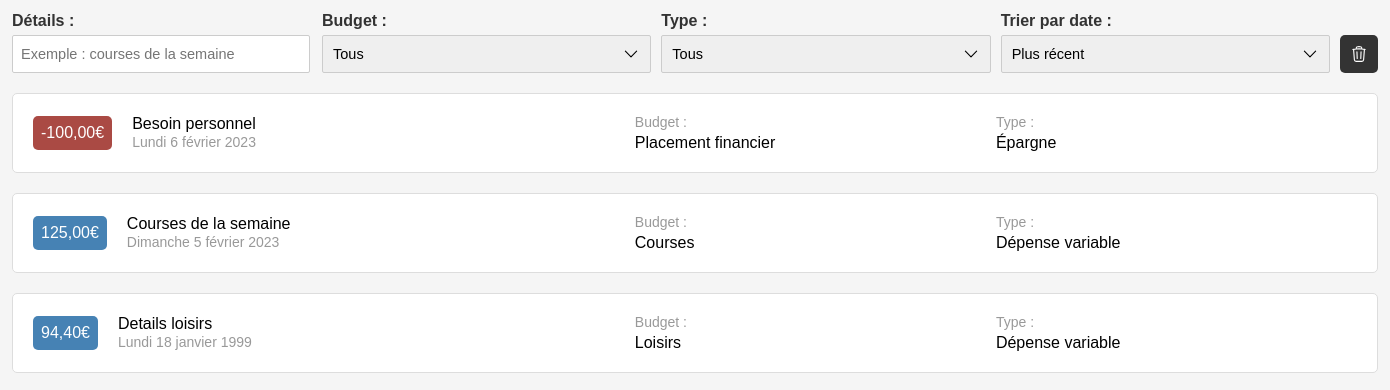
<History /> › filter by expense name, budget type and by budget name
Expected: the text "Besoin personnel" is shown, [132,115,256,133]
Expected: the text "Courses de la semaine" is shown, [127,215,290,233]
In the field labelled "Détails :": (161, 54) [12,35,310,73], type "Deta"
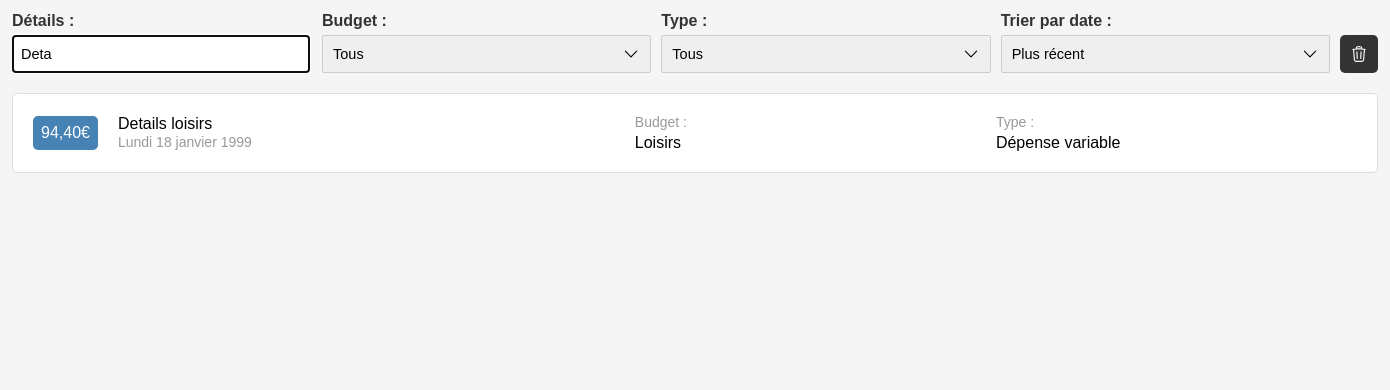
Expected: the text "Details loisirs" is shown, [118,115,212,132]
Expected: the text "Besoin personnel" is gone
Expected: the text "Courses de la semaine" is gone
Clear the field labelled "Détails :": (161, 54) [12,35,310,73]
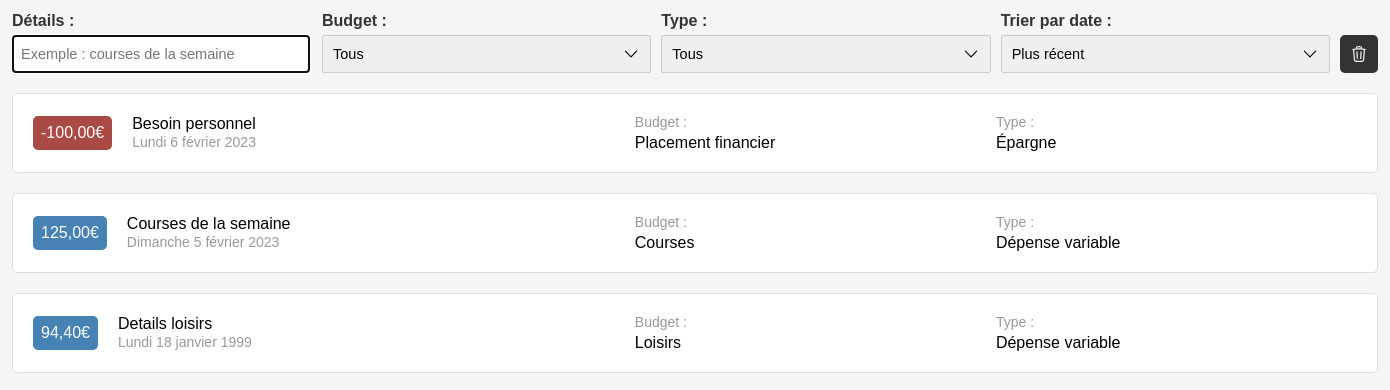
Expected: the text "Details loisirs" is shown, [118,315,212,332]
Expected: the text "Besoin personnel" is shown, [132,115,256,133]
Expected: the text "Courses de la semaine" is shown, [127,215,290,233]
Select "Dépense variable" in the dropdown labelled "Type :": (826, 54) [661,35,991,73]
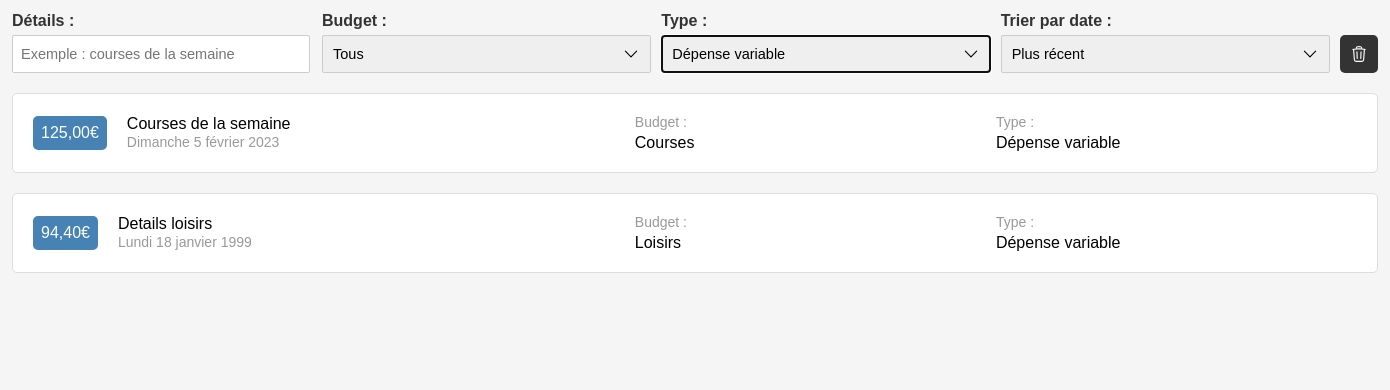
Expected: the text "Details loisirs" is shown, [118,215,212,232]
Expected: the text "Placement financier" is gone
Expected: the text "Courses" is shown 2 times
Select "Courses" in the dropdown labelled "Budget :": (487, 54) [322,35,651,73]
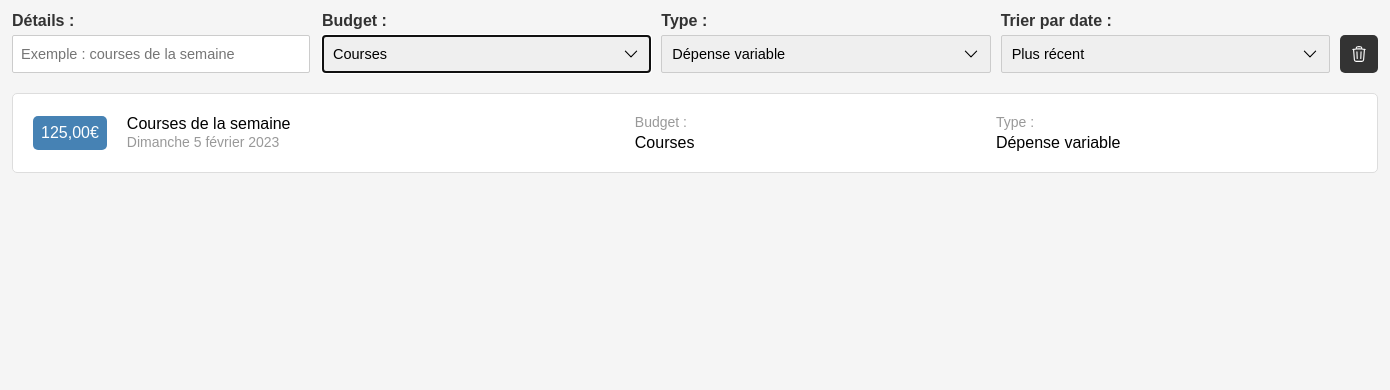
Expected: the text "Placement financier" is not shown
Expected: the text "Details loisirs" is gone
Select "Tous" in the dropdown labelled "Type :": (826, 54) [661,35,991,73]
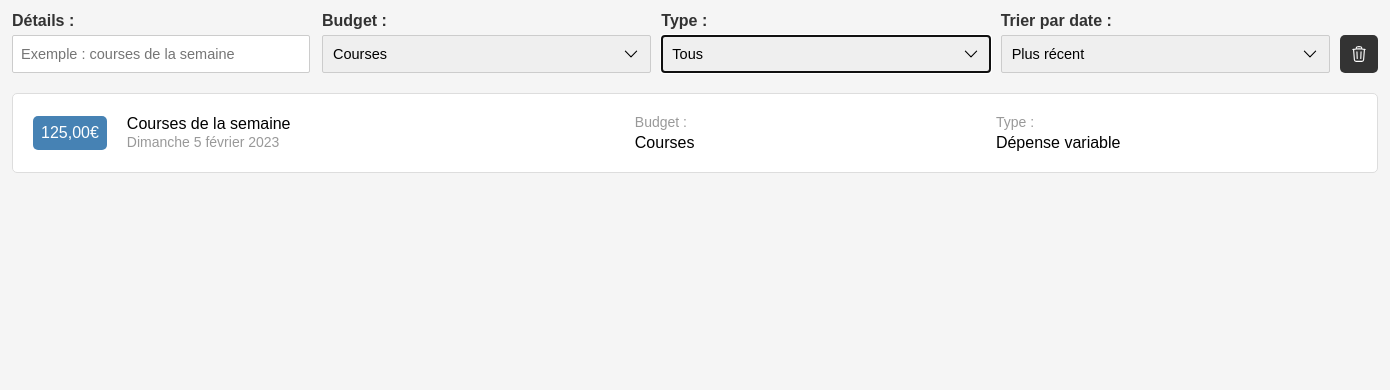
Select "Tous" in the dropdown labelled "Budget :": (487, 54) [322,35,651,73]
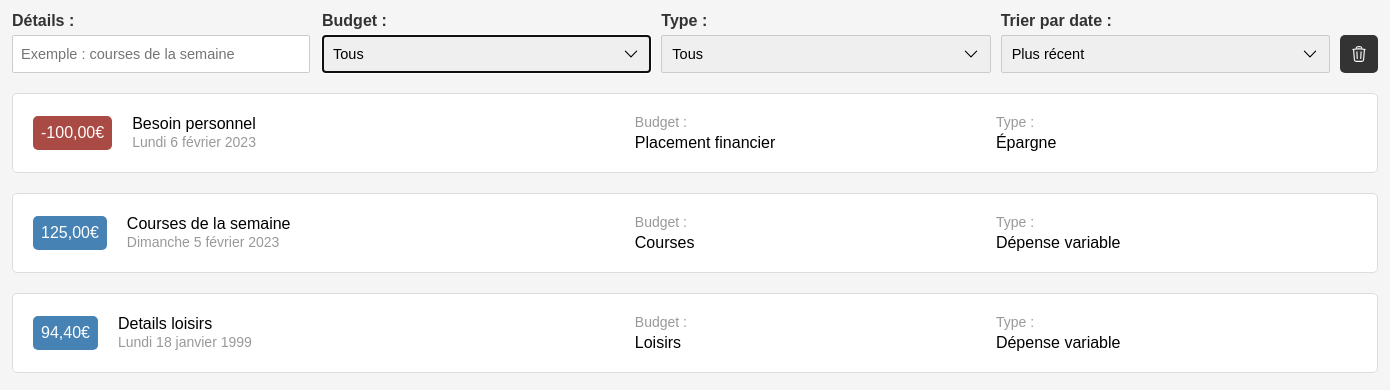
Expected: the text "Details loisirs" is shown, [118,315,212,332]
Expected: the text "Placement financier" is shown 2 times
Expected: the text "Courses" is shown 2 times
